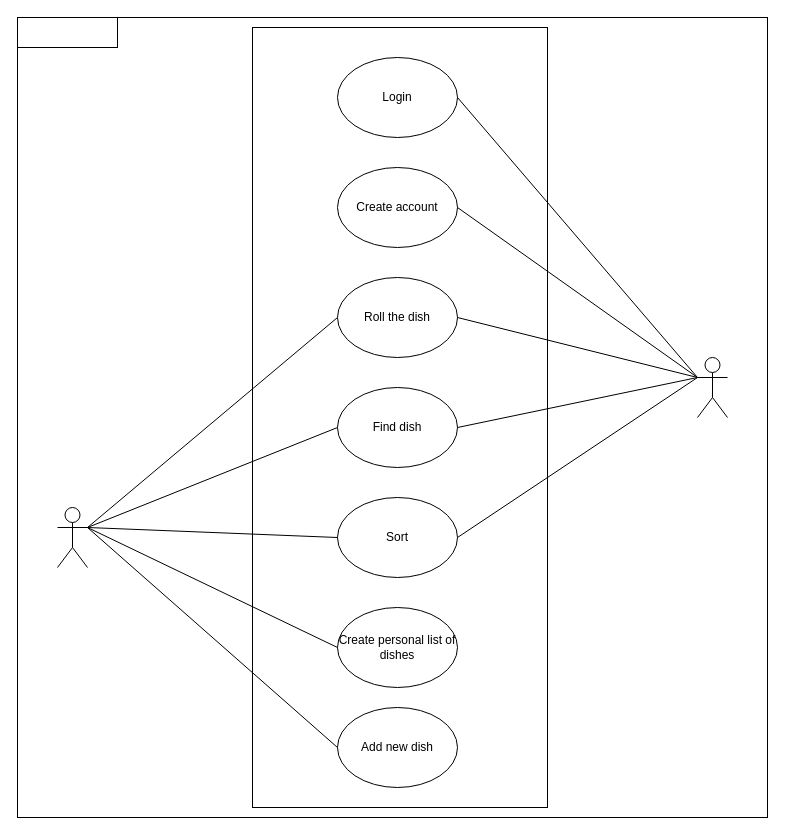
Image size: 785x835. Some labels were removed from this diagram. Here are the shapes that lost their labels. From the top down, the centre of each, then its label:
point 67,32: Thing I can cook
point 712,387: Visitor
point 72,537: User
